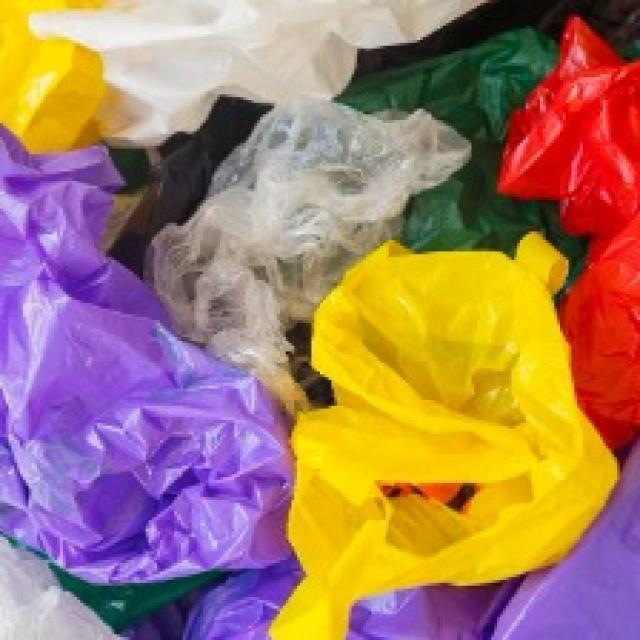plastic_bag: (291, 234, 640, 606), (2, 211, 253, 581), (487, 25, 640, 402), (23, 1, 490, 121), (139, 92, 470, 236)
